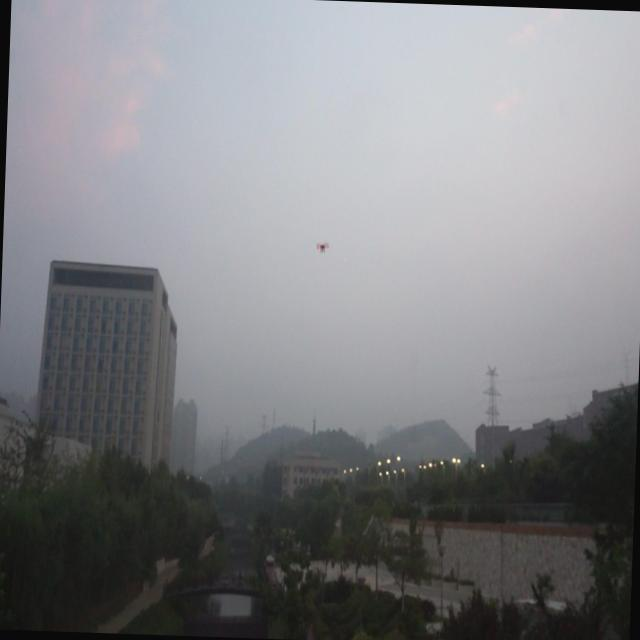drone: (315, 238, 330, 254)
